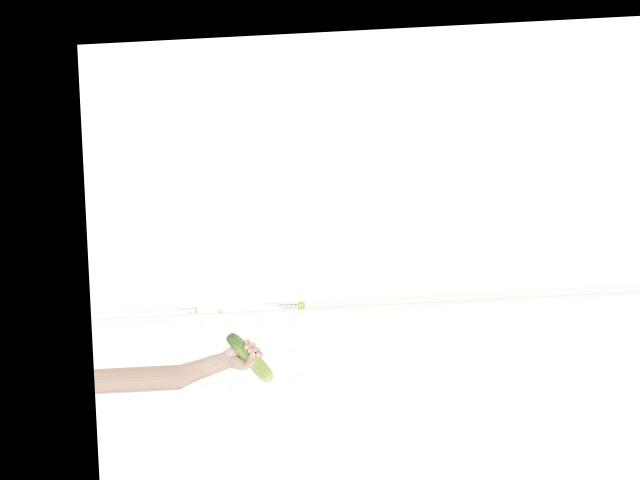cucumber: (224, 330, 272, 383)
